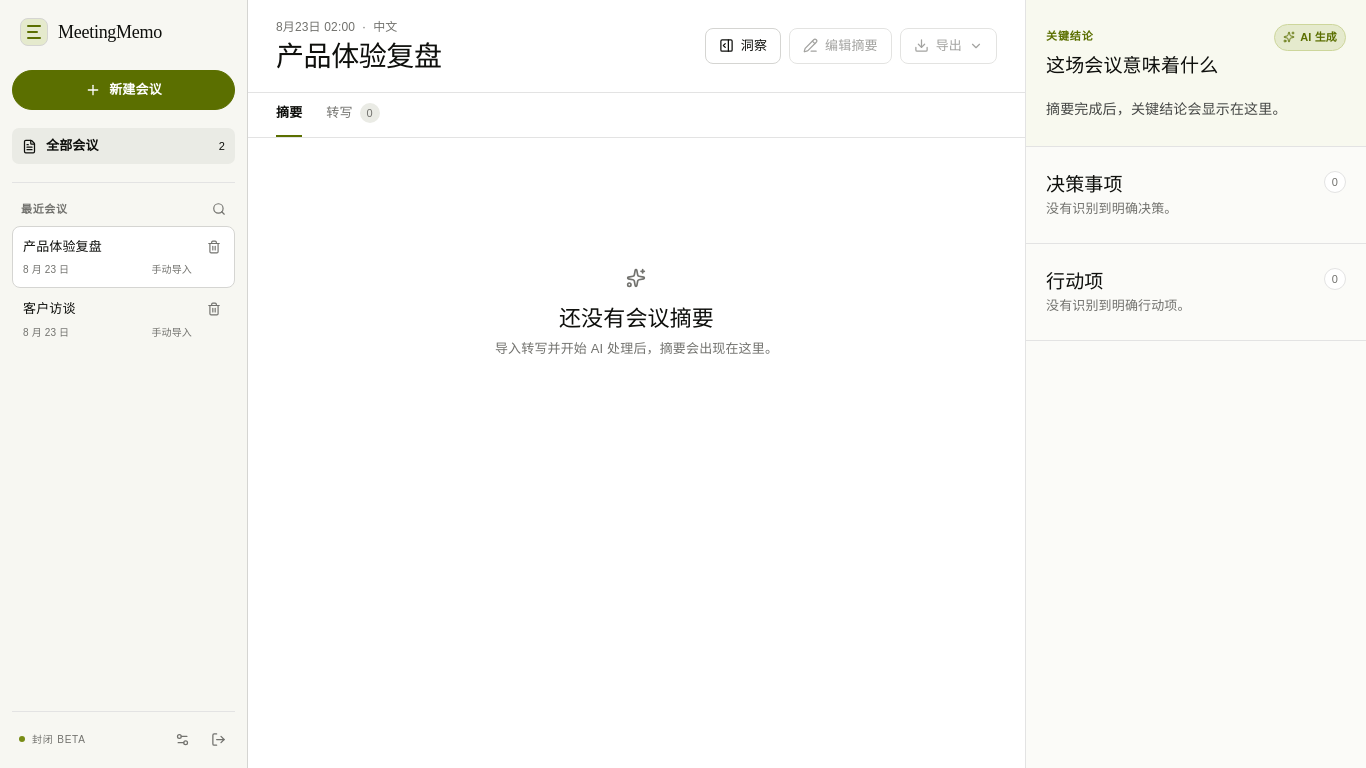
MeetingMemoApp › deletes the selected historical meeting and opens the next one
The width and height of the screenshot is (1366, 768).
Expected: the heading "产品体验复盘" is shown, [276, 40, 442, 74]
Click the button named "删除会议 产品体验复盘" at (214, 246), box [199, 232, 229, 262]
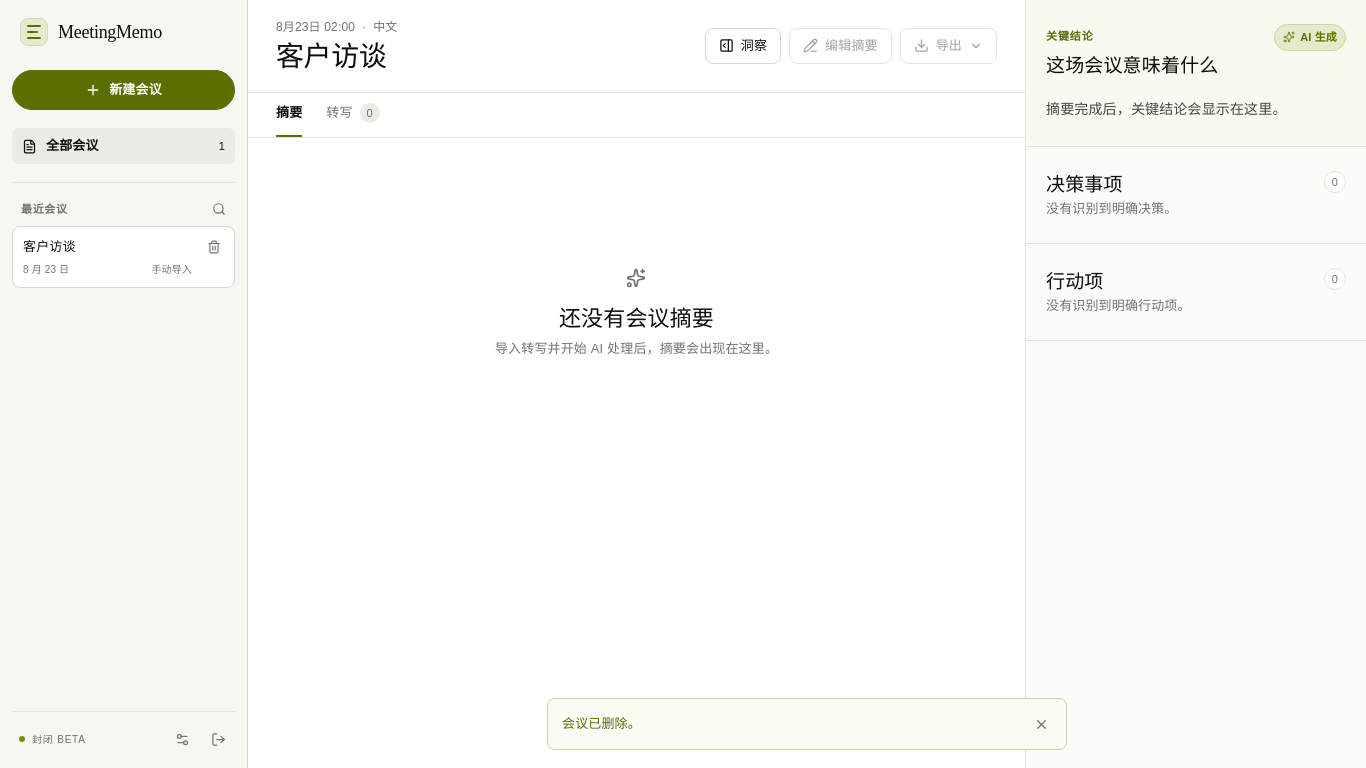
Expected: the heading "客户访谈" is shown, [276, 40, 398, 74]
